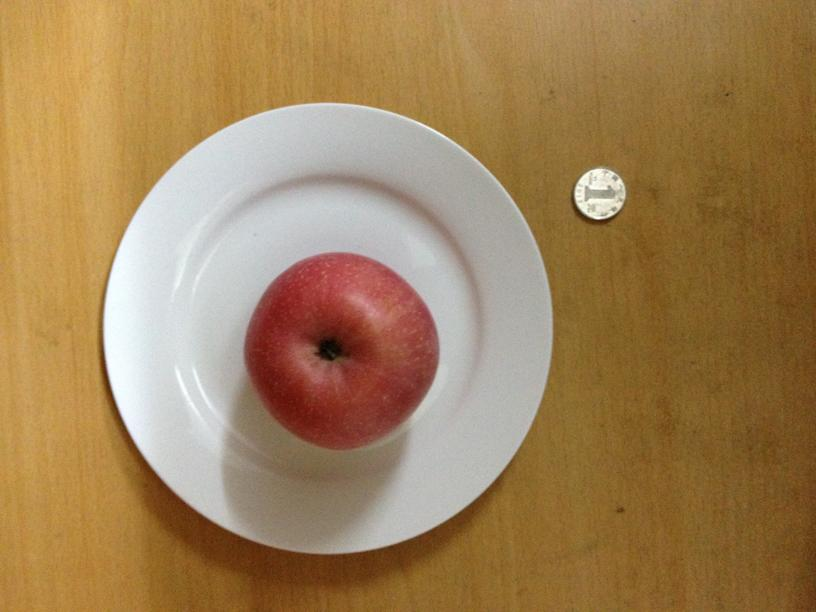apple: (240, 252, 439, 450)
coin: (572, 165, 629, 222)
